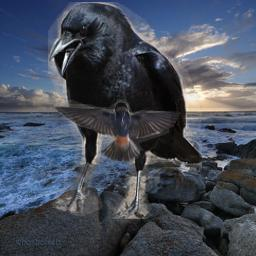Crow: (48, 2, 202, 219)
Swallow: (50, 99, 182, 163)
